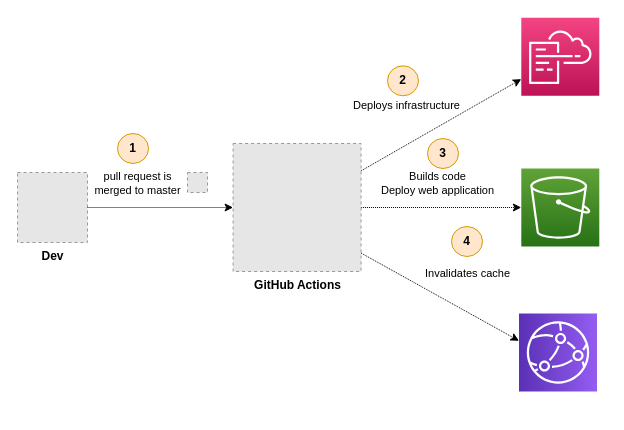
The diagram is 624 pixels wide and 430 high, and some of its shapes have lost their labels. Grey dashed boxes stand in for pictures. Each missing label, with the centre of its shape:
CloudFormation: pixel 559 56
CloudFront: pixel 557 352
S3: pixel 559 207
